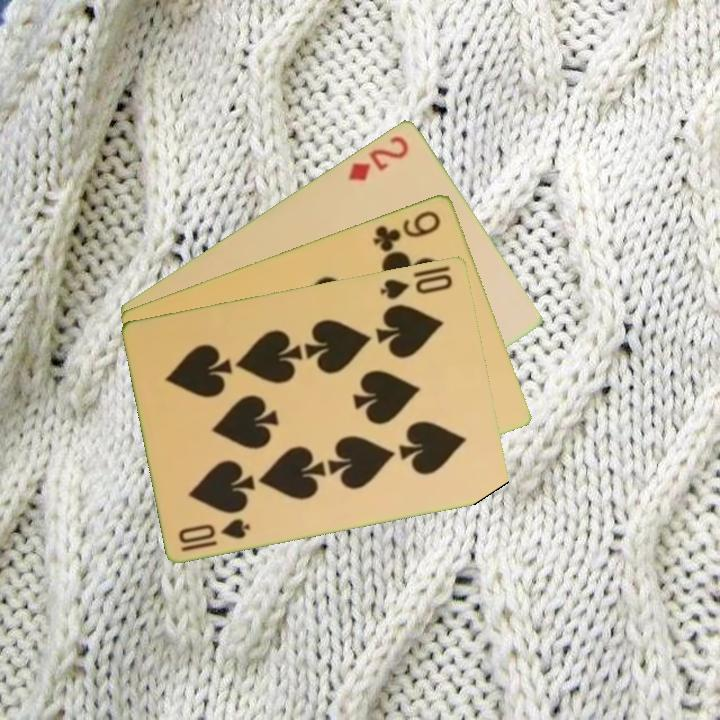10s: (175, 514, 254, 554), (376, 270, 456, 302)
2d: (344, 131, 412, 184)
9c: (370, 206, 444, 254)
